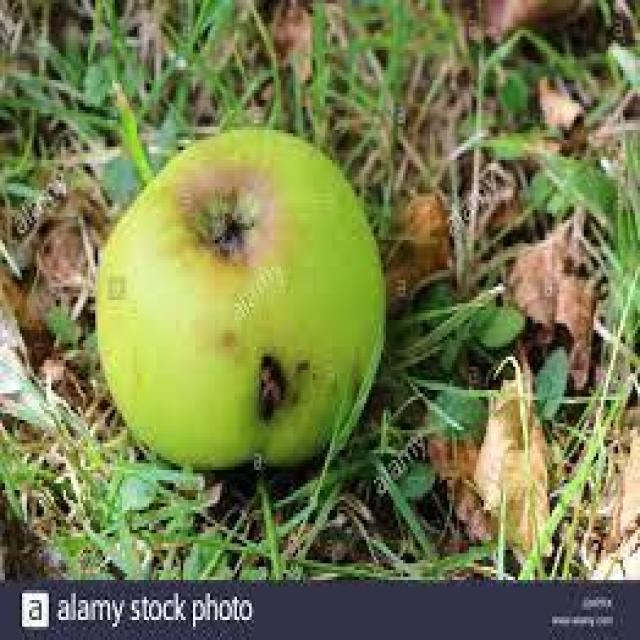maca: (93, 123, 386, 470)
